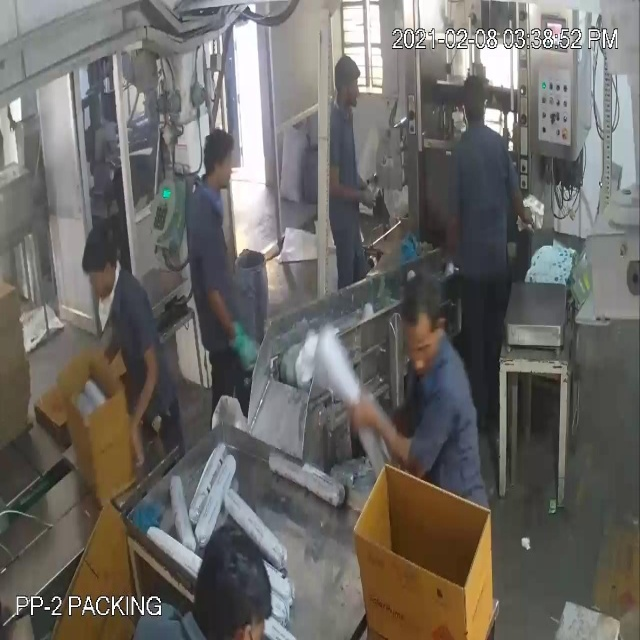Guantes: (193, 276, 271, 396)
Sin_guantes: (342, 375, 427, 495), (122, 325, 159, 472)
